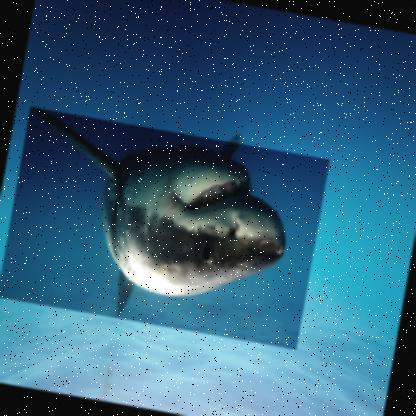white-shark: (0, 104, 330, 349)
